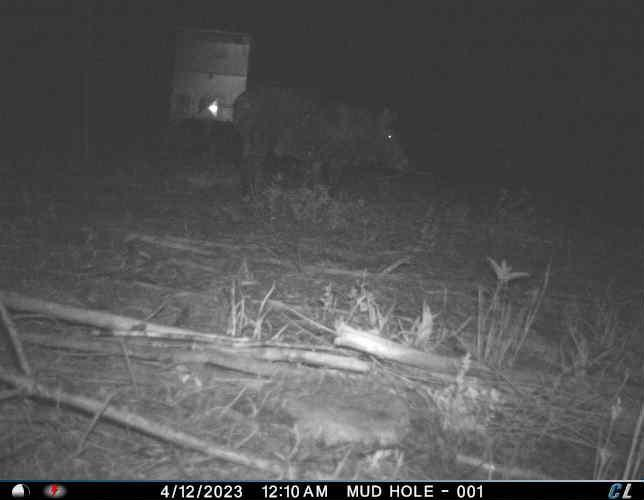Hog: (231, 83, 416, 208)
